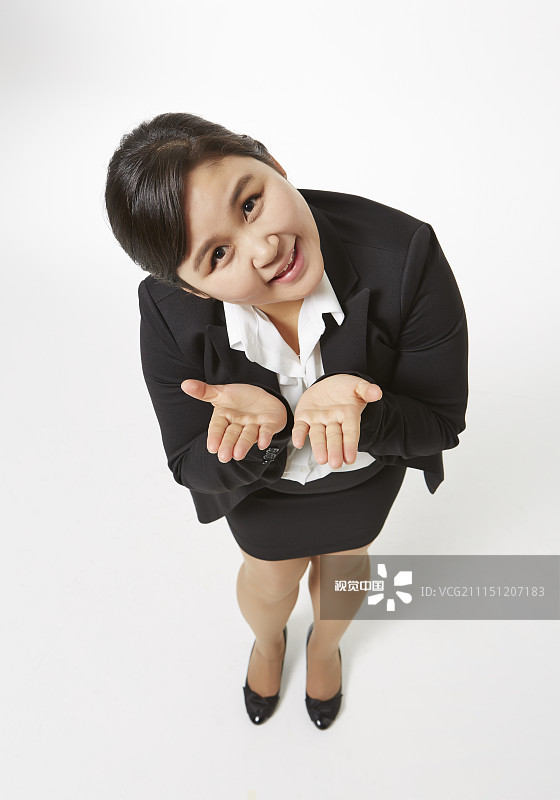no-phone: (165, 362, 292, 487), (287, 353, 388, 482)
